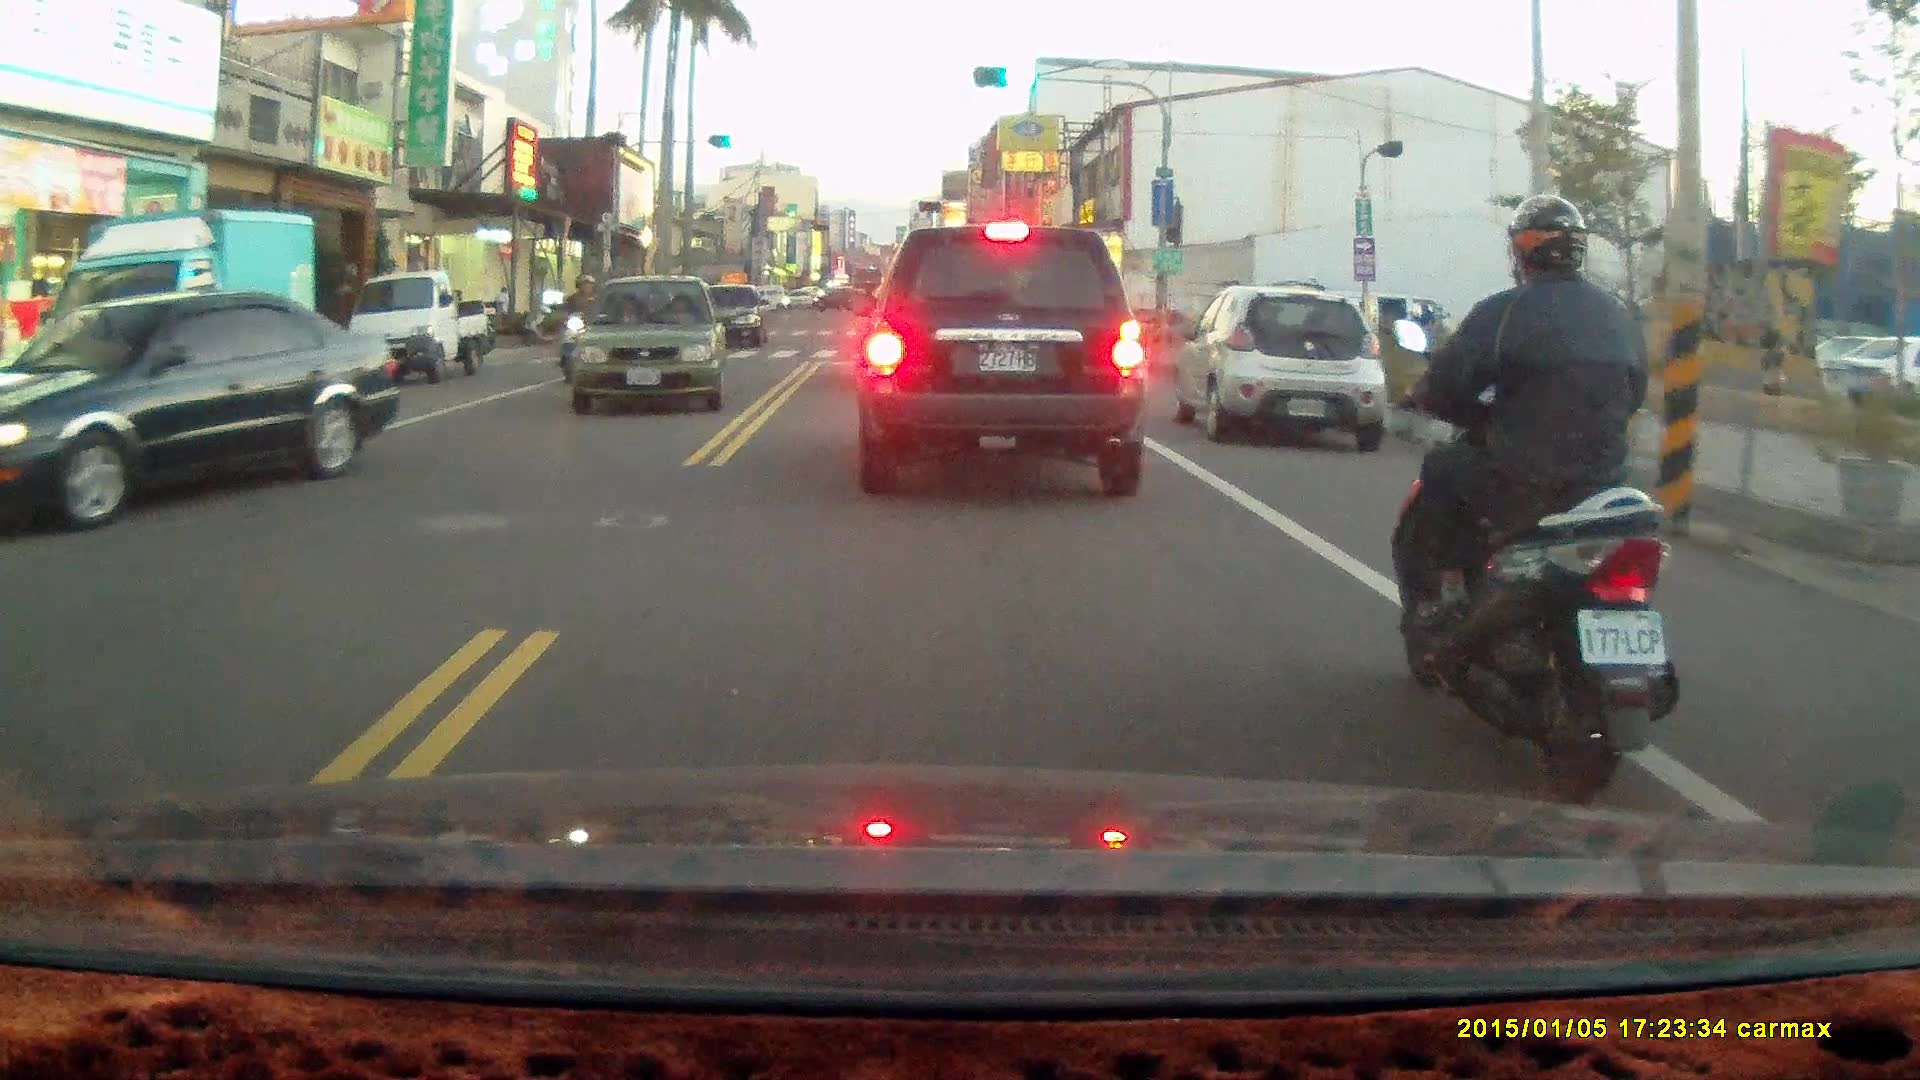rider: (1388, 197, 1684, 803), (550, 278, 600, 371)
vehicle: (1, 293, 402, 531), (854, 222, 1148, 500), (58, 210, 315, 442), (1182, 286, 1388, 449), (563, 272, 727, 418), (339, 268, 490, 383)
